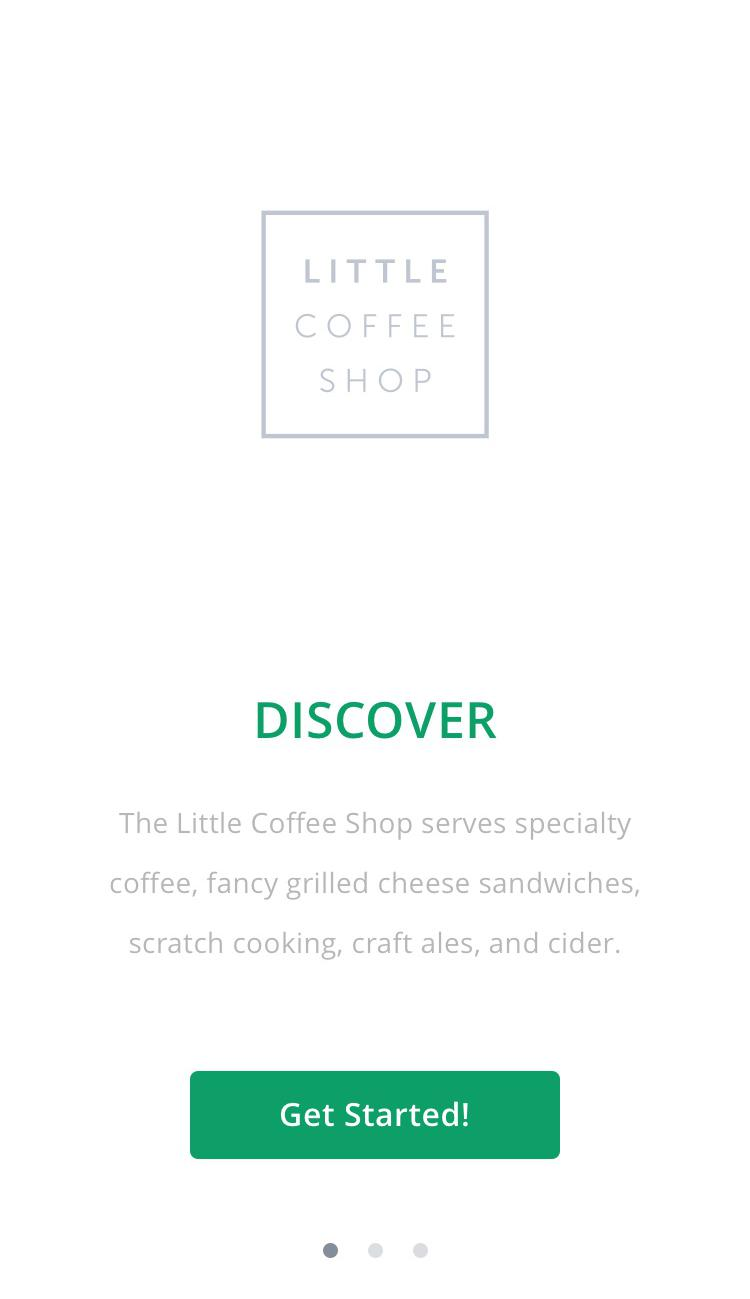Image: (261, 210, 490, 439)
PageIndicator: (322, 1242, 429, 1259)
Text: (111, 811, 641, 962), (257, 701, 497, 740)
TextButton: (190, 1071, 561, 1160)
